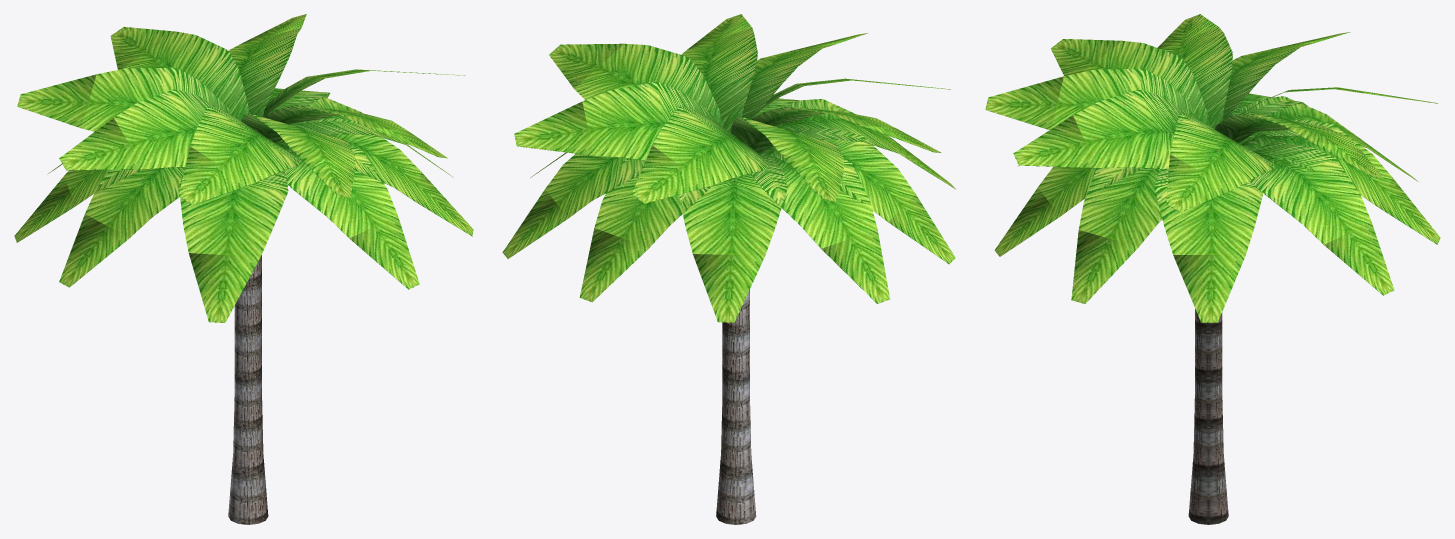
File: palmtree.fbx
3 views of the same model, side by side, from view 1: azimuth 30°, elevation 25°; view 2: azimuth 150°, elevation 25°; view 3: azimuth 270°, elevation 25° (orthographic).
Parts seen in each view (by area): view 1: Duplicate03, Duplicate17, Cylinder01, Duplicate02, Duplicate18, Duplicate16, Duplicate04, Duplicate15, Duplicate01, Duplicate19, Duplicate09, Duplicate05 (+4 smaller); view 2: Duplicate06, Duplicate09, Duplicate05, Duplicate15, Duplicate21, Cylinder01, Duplicate07, Duplicate04, Duplicate08, Duplicate20, Duplicate16, Duplicate03 (+3 smaller); view 3: Duplicate08, Duplicate20, Box01, Duplicate01, Cylinder01, Duplicate21, Duplicate19, Duplicate18, Duplicate17, Duplicate07, Duplicate02, Duplicate09 (+3 smaller).
Boxes of the visible parts, bbox=[...] form: Duplicate03: bbox=[179, 171, 288, 322]; Duplicate17: bbox=[59, 89, 216, 170]; Cylinder01: bbox=[228, 255, 268, 524]; Duplicate02: bbox=[277, 141, 419, 289]; Duplicate18: bbox=[178, 106, 301, 204]; Duplicate16: bbox=[17, 67, 231, 131]; Duplicate04: bbox=[59, 167, 185, 287]; Duplicate15: bbox=[110, 27, 249, 120]; Duplicate01: bbox=[275, 118, 473, 236]; Duplicate19: bbox=[241, 114, 355, 198]; Duplicate09: bbox=[228, 14, 306, 116]; Duplicate05: bbox=[14, 169, 143, 242]; Duplicate06: bbox=[679, 155, 787, 322]; Duplicate09: bbox=[514, 82, 715, 160]; Duplicate05: bbox=[751, 149, 890, 303]; Duplicate15: bbox=[631, 106, 770, 203]; Duplicate21: bbox=[549, 43, 722, 126]; Cylinder01: bbox=[716, 289, 756, 524]; Duplicate07: bbox=[579, 158, 711, 302]; Duplicate04: bbox=[757, 128, 955, 264]; Duplicate08: bbox=[502, 153, 645, 258]; Duplicate20: bbox=[681, 14, 757, 132]; Duplicate16: bbox=[731, 116, 844, 202]; Duplicate03: bbox=[775, 99, 955, 189]; Duplicate08: bbox=[1249, 141, 1394, 295]; Duplicate20: bbox=[1013, 90, 1193, 169]; Box01: bbox=[1154, 169, 1263, 322]; Duplicate01: bbox=[1071, 167, 1161, 303]; Cylinder01: bbox=[1188, 308, 1228, 524]; Duplicate21: bbox=[1166, 113, 1274, 212]; Duplicate19: bbox=[985, 68, 1195, 129]; Duplicate18: bbox=[1050, 39, 1209, 126]; Duplicate17: bbox=[1157, 14, 1232, 129]; Duplicate07: bbox=[1240, 119, 1440, 244]; Duplicate02: bbox=[994, 166, 1143, 256]; Duplicate09: bbox=[1214, 113, 1383, 178].
Bounding box in the file's own units: 50.32 × 51.73 × 49.26.
1 material, 1 textured.
